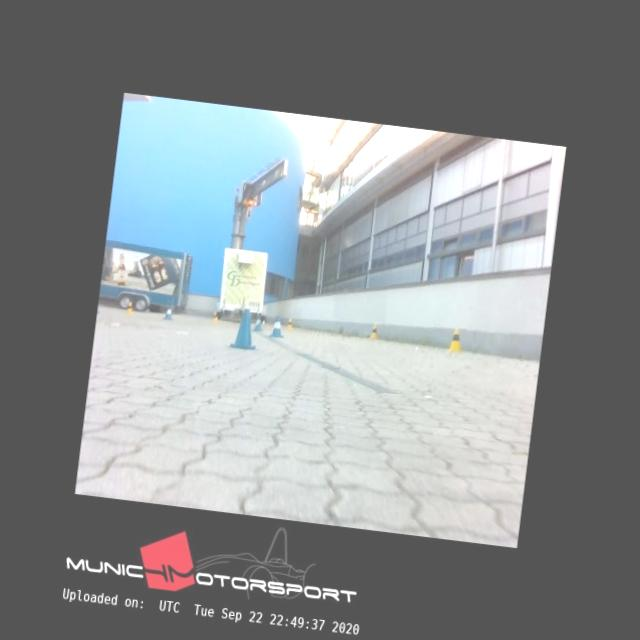blue_cone: (230, 308, 260, 350), (268, 316, 286, 338), (252, 314, 264, 332), (164, 304, 174, 320)
yellow_cone: (446, 326, 464, 352), (368, 322, 378, 338), (124, 300, 132, 314), (210, 309, 218, 322), (286, 316, 293, 329)
